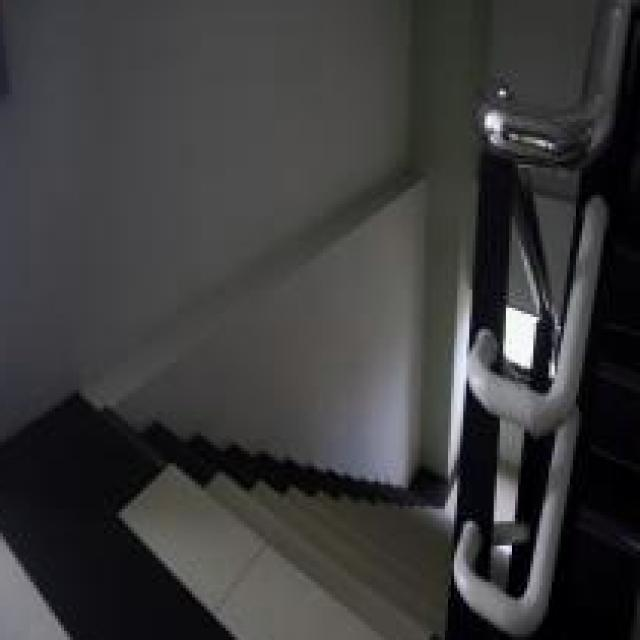downstair: (95, 482, 409, 640)
